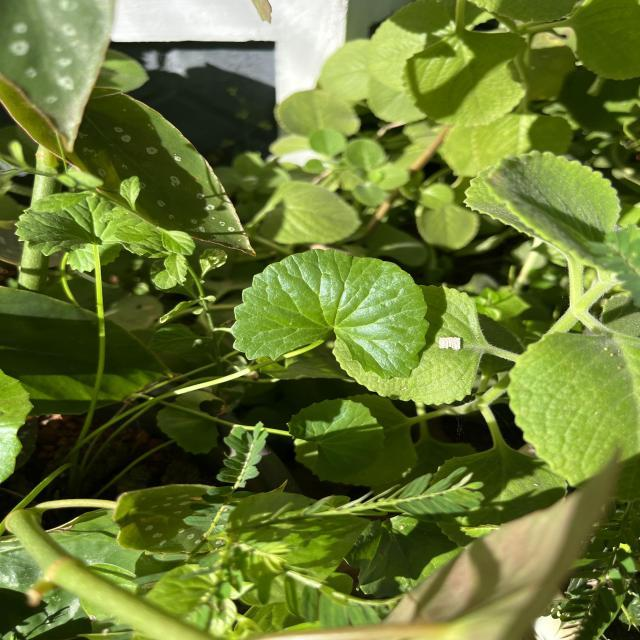Centella asiatica: (229, 246, 432, 382)
